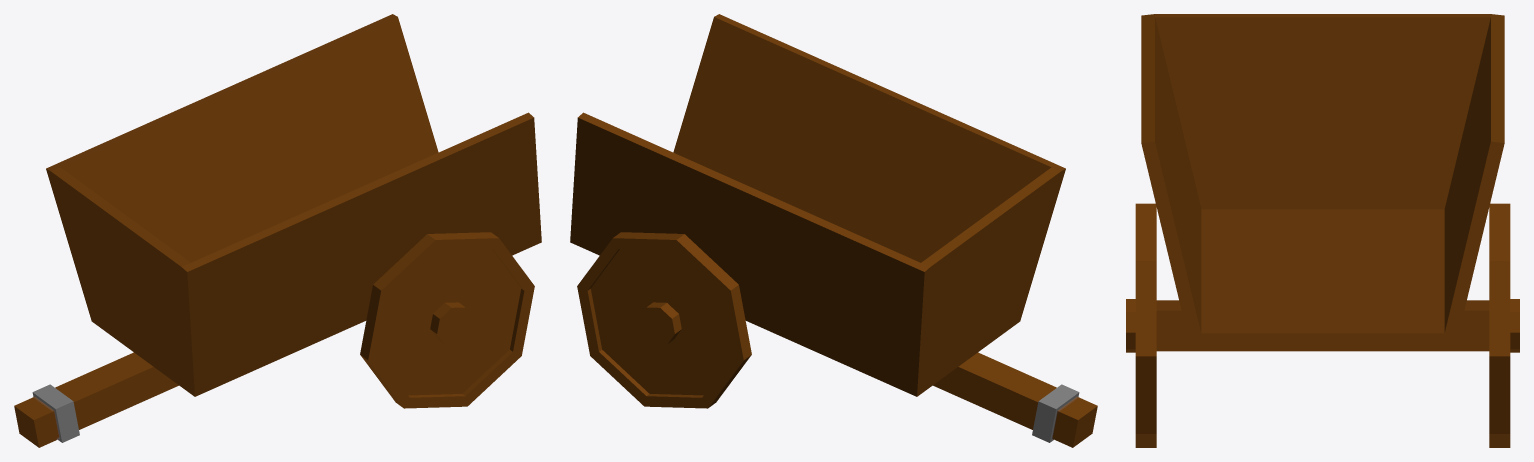
Rendered from Wagon.fbx.
3 views of the same model, side by side, from view 1: azimuth 30°, elevation 25°; view 2: azimuth 150°, elevation 25°; view 3: azimuth 270°, elevation 25° (orthographic). The views are drawn at different scales.
Visible parts, largest first — view 1: Beams; view 2: Beams; view 3: Beams.
Boxes of the visible parts, bbox=[...] form: Beams: bbox=[14, 14, 541, 447]; Beams: bbox=[570, 14, 1097, 447]; Beams: bbox=[1126, 14, 1519, 447].
Bounding box in the file's own units: 330 × 184 × 188.
2 materials, 1 textured.
